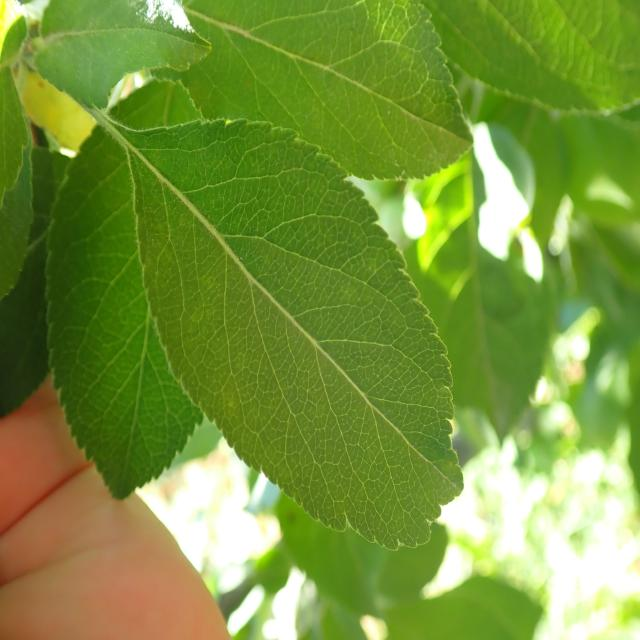healthy: (123, 116, 464, 552), (44, 107, 203, 501), (180, 0, 475, 182), (419, 0, 639, 116), (34, 0, 213, 113), (0, 5, 33, 298)
